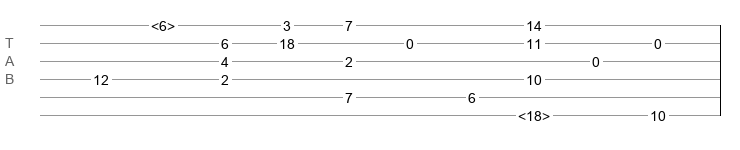0: (406, 36, 414, 46), (592, 54, 600, 64), (654, 36, 662, 46)
10: (526, 72, 542, 82), (650, 108, 666, 118)
11: (526, 36, 542, 46)
12: (93, 72, 109, 82)
14: (526, 18, 542, 28)
18: (279, 36, 295, 46)
2: (221, 72, 229, 82), (345, 54, 353, 64)
3: (283, 18, 291, 28)
4: (221, 54, 229, 64)
6: (221, 36, 229, 46), (468, 90, 476, 100)
7: (345, 90, 353, 100), (345, 18, 353, 28)
harmonic: (518, 108, 550, 118), (151, 18, 175, 28)
